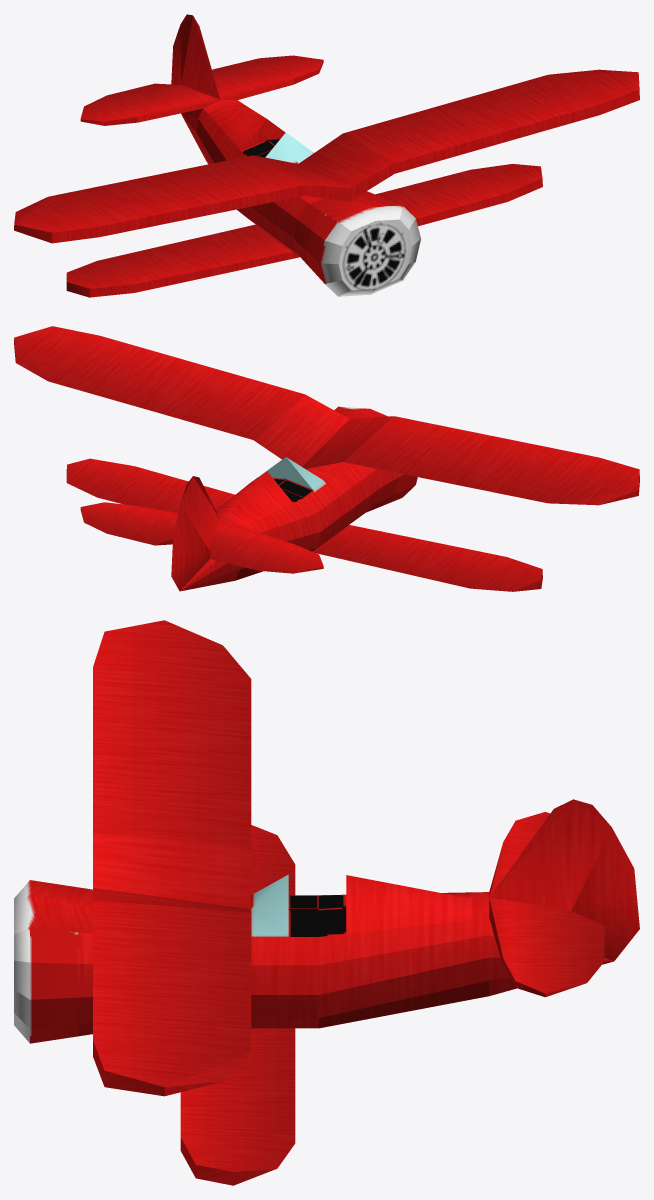
Rendered from Biplane_Import.fbx.
3 renders of one model, top to bottom at view 1: azimuth 30°, elevation 25°; view 2: azimuth 150°, elevation 25°; view 3: azimuth 270°, elevation 25°, orthographic. The views are drawn at different scales.
Visible parts, largest first — view 1: pCylinder4; view 2: pCylinder4; view 3: pCylinder4.
Boxes of the visible parts, bbox=[...] form: pCylinder4: bbox=[14, 14, 639, 297]; pCylinder4: bbox=[14, 326, 639, 591]; pCylinder4: bbox=[14, 620, 639, 1185].
Bounding box in the file's own units: 7.62 × 1.74 × 4.32.
